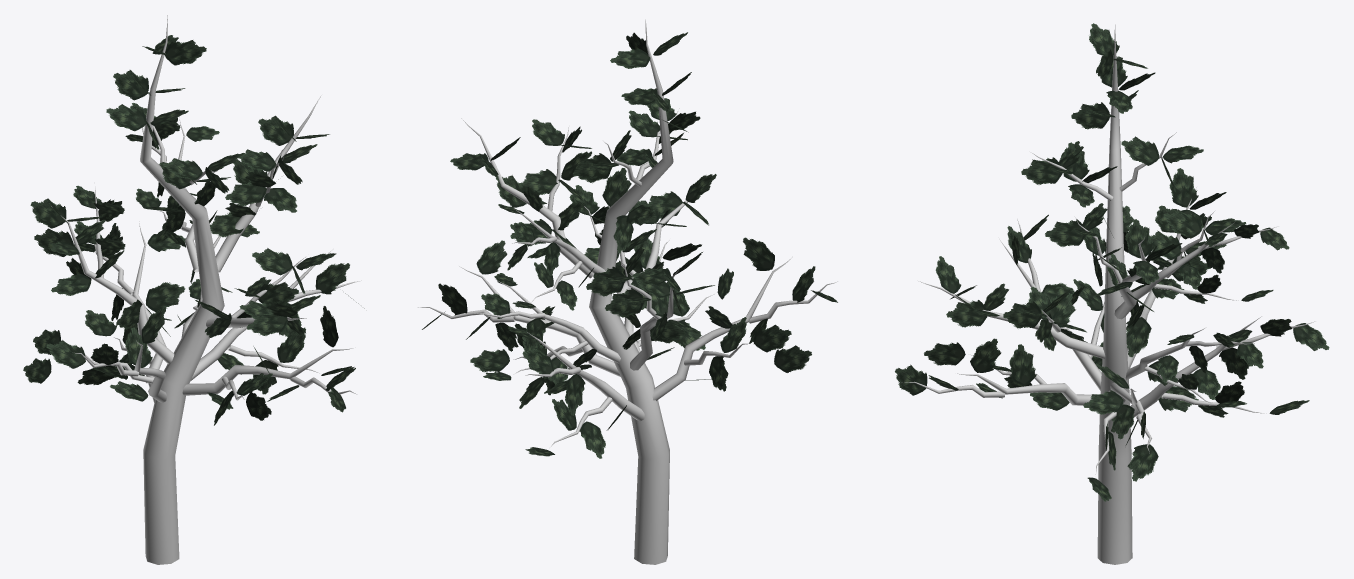
Rendered from Arvore Final.fbx.
The picture shows the model from 3 angles, left to right: view 1: azimuth 30°, elevation 25°; view 2: azimuth 150°, elevation 25°; view 3: azimuth 270°, elevation 25°; orthographic projection.
Parts seen in each view (by area): view 1: extrudedSurface1, extrudedSurface17, extrudedSurface5, extrudedSurface2, pPlane81 (×2), pPlane87 (×2), extrudedSurface10, pPlane5, pPlane69, pPlane68, pPlane60, pPlane86 (+20 smaller); view 2: extrudedSurface1, pPlane81 (×2), pPlane87 (×2), extrudedSurface13, extrudedSurface14, extrudedSurface2, extrudedSurface10, extrudedSurface16, extrudedSurface5, pPlane76, pPlane61, pPlane63 (+12 smaller); view 3: extrudedSurface1, pPlane86 (×3), pPlane83 (×2), extrudedSurface17, extrudedSurface4, extrudedSurface14, pPlane3, pPlane54, pPlane51, pPlane66, pPlane12, pPlane81 (+10 smaller).
Part boxes in pixels (left/top/right/bottom): extrudedSurface1: left=140, top=15, right=224, bottom=564; extrudedSurface17: left=182, top=348, right=353, bottom=395; extrudedSurface5: left=51, top=206, right=174, bottom=364; extrudedSurface2: left=215, top=95, right=321, bottom=272; pPlane81 (×2): left=85, top=310, right=271, bottom=420; pPlane87 (×2): left=141, top=306, right=338, bottom=347; extrudedSurface10: left=190, top=249, right=333, bottom=380; pPlane5: left=146, top=282, right=185, bottom=312; pPlane69: left=164, top=40, right=206, bottom=65; pPlane68: left=113, top=70, right=148, bottom=100; pPlane60: left=30, top=198, right=66, bottom=228; pPlane86: left=46, top=340, right=85, bottom=368; extrudedSurface1: left=589, top=19, right=673, bottom=564; pPlane81 (×2): left=470, top=324, right=791, bottom=372; pPlane87 (×2): left=476, top=237, right=774, bottom=274; extrudedSurface13: left=652, top=257, right=792, bottom=400; extrudedSurface14: left=527, top=332, right=644, bottom=421; extrudedSurface2: left=461, top=118, right=593, bottom=278; extrudedSurface10: left=459, top=266, right=620, bottom=376; extrudedSurface16: left=495, top=279, right=620, bottom=363; extrudedSurface5: left=630, top=268, right=679, bottom=370; pPlane76: left=774, top=345, right=811, bottom=372; pPlane61: left=586, top=266, right=624, bottom=296; pPlane63: left=573, top=153, right=611, bottom=183; extrudedSurface1: left=1097, top=24, right=1132, bottom=564; pPlane86 (×3): left=895, top=323, right=1329, bottom=481; pPlane83 (×2): left=1009, top=344, right=1123, bottom=414; extrudedSurface17: left=957, top=373, right=1091, bottom=405; extrudedSurface4: left=918, top=281, right=1105, bottom=359; extrudedSurface14: left=1130, top=316, right=1261, bottom=417; pPlane3: left=1169, top=168, right=1198, bottom=207; pPlane54: left=1045, top=219, right=1085, bottom=246; pPlane51: left=946, top=300, right=987, bottom=327; pPlane66: left=1021, top=157, right=1062, bottom=184; pPlane12: left=1125, top=219, right=1153, bottom=258; pPlane81: left=924, top=342, right=965, bottom=365.
Size of the model in its own units: 9.4 by 12.48 by 9.62.
